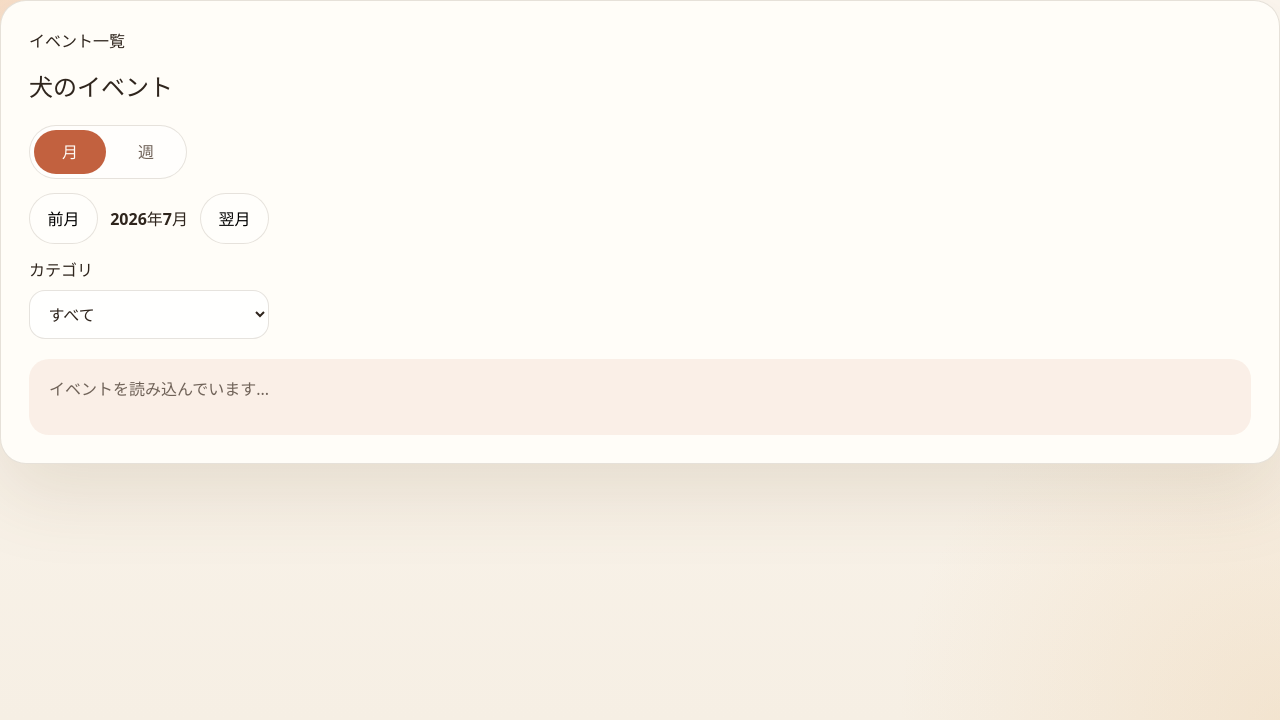
EventListView › 古いイベント取得レスポンスが後から返っても現在の一覧を上書きしない
Click the button "週" at (146, 152), box [110,130,182,174]
(page scrolled)
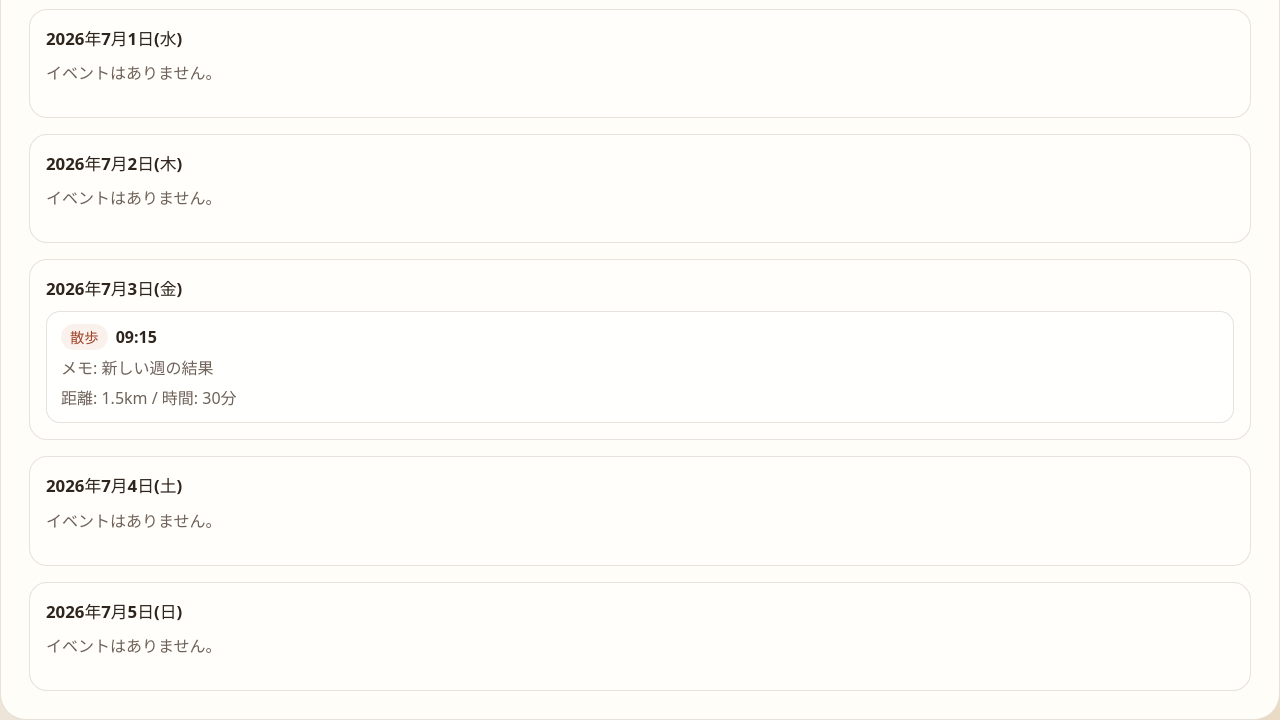
Now the text "メモ: 新しい週の結果" is shown, box [61,358,214,380]
